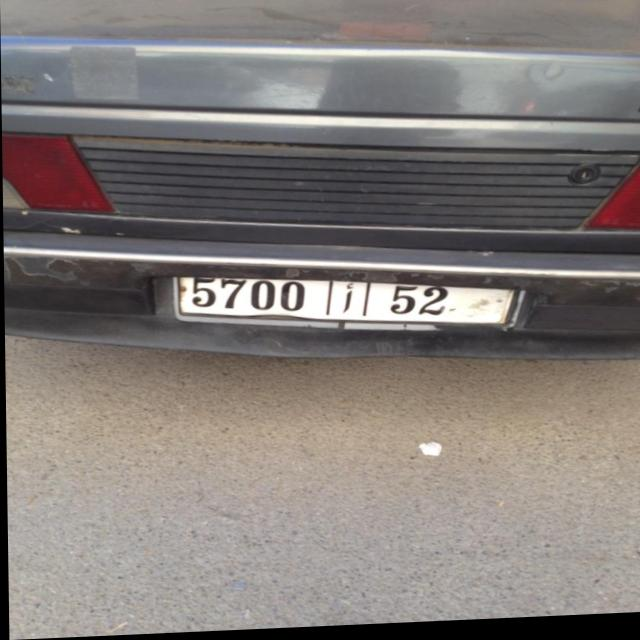License-Plate: (177, 279, 514, 329)
